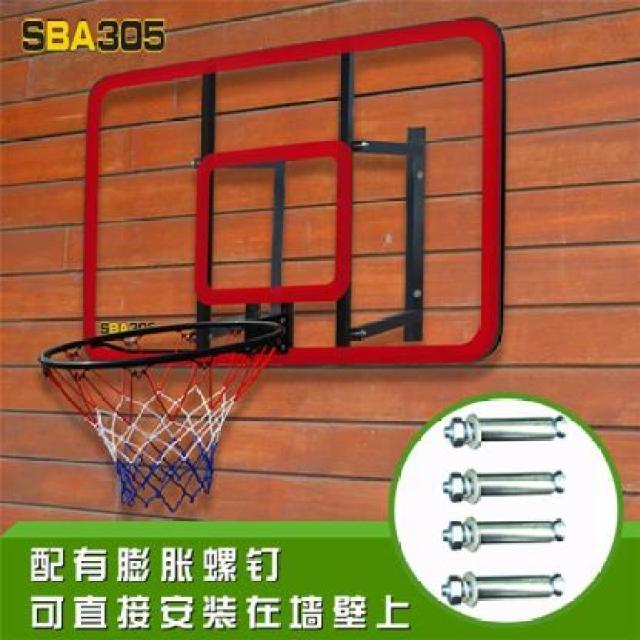rim: (37, 320, 291, 512)
